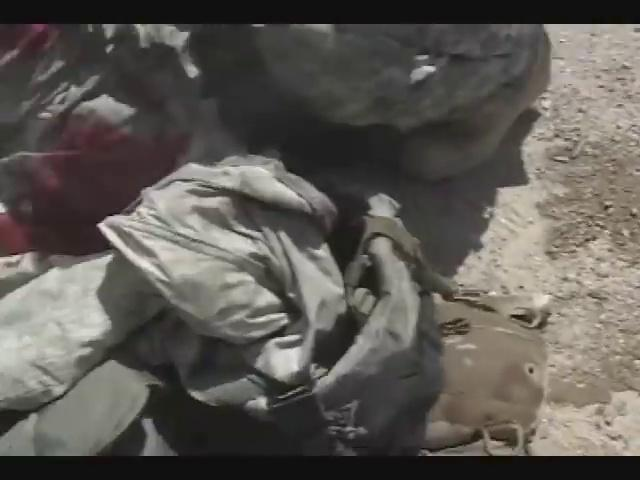Fire: (0, 120, 189, 256), (4, 24, 70, 64)
